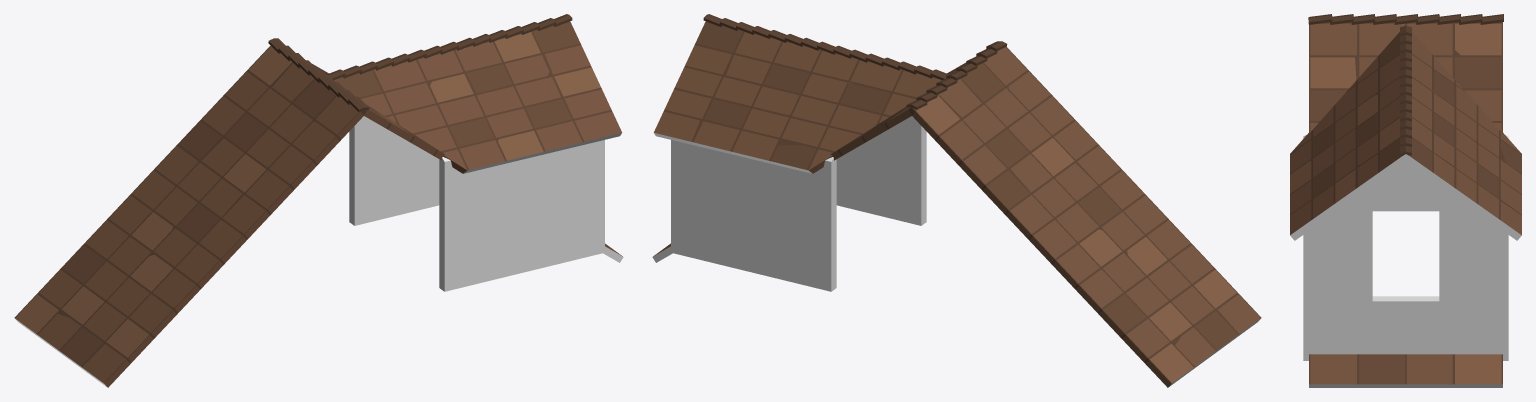
Rendered from Roof2_C9_04.fbx.
The picture shows the model from 3 angles, left to right: view 1: azimuth 30°, elevation 25°; view 2: azimuth 150°, elevation 25°; view 3: azimuth 270°, elevation 25°; orthographic projection. The views are drawn at different scales.
Visible parts, largest first — view 1: Roof2_C9_04; view 2: Roof2_C9_04; view 3: Roof2_C9_04.
Part boxes in pixels (x1,y1,x2,y2): Roof2_C9_04: [14, 14, 623, 387]; Roof2_C9_04: [652, 14, 1261, 387]; Roof2_C9_04: [1290, 14, 1521, 387].
Size of the model in its own units: 833 by 339 by 299.
